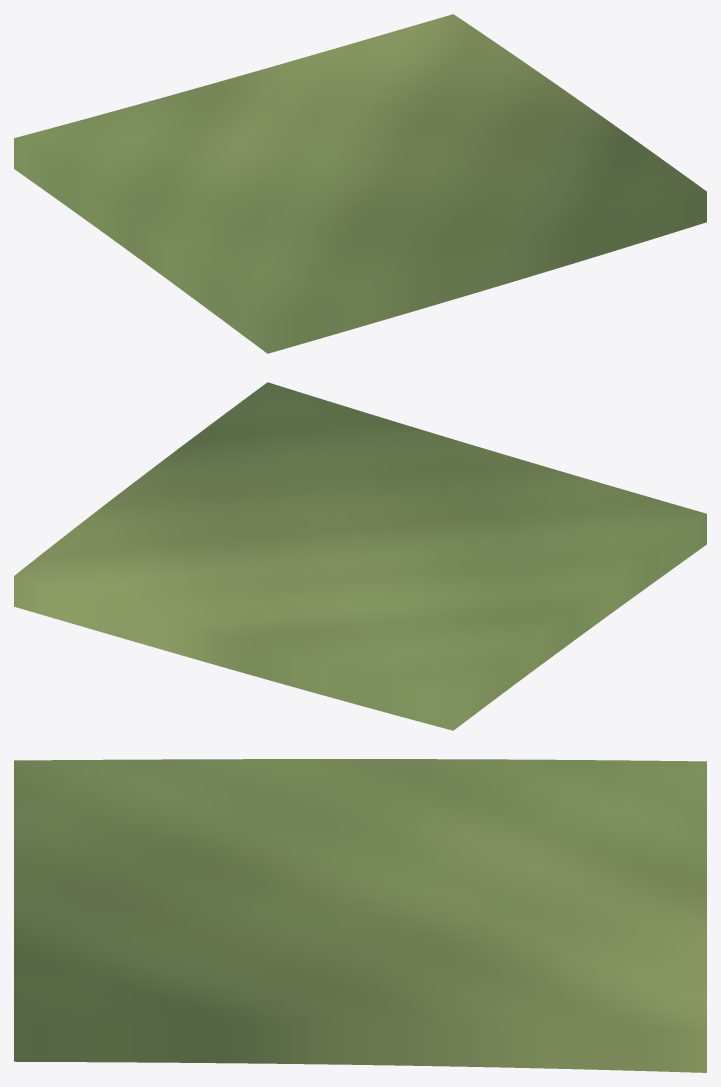
The picture shows the model from 3 angles, top to bottom: view 1: azimuth 30°, elevation 25°; view 2: azimuth 150°, elevation 25°; view 3: azimuth 270°, elevation 25°; orthographic projection. The views are drawn at different scales.
Visible parts, largest first — view 1: terrain; view 2: terrain; view 3: terrain.
Part boxes in pixels (x1,y1,x2,y2): terrain: [14, 14, 706, 353]; terrain: [14, 382, 706, 730]; terrain: [14, 759, 706, 1072].
Size of the model in its own units: 30 by 3.64 by 30.
